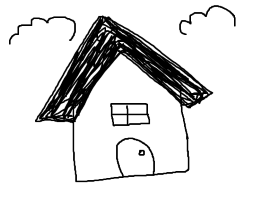closed_window: (106, 98, 157, 129)
clouds: (5, 14, 78, 51), (175, 2, 240, 39)
door: (111, 134, 158, 180)
shaded_roof: (30, 15, 214, 123)
wall: (70, 54, 192, 187)
